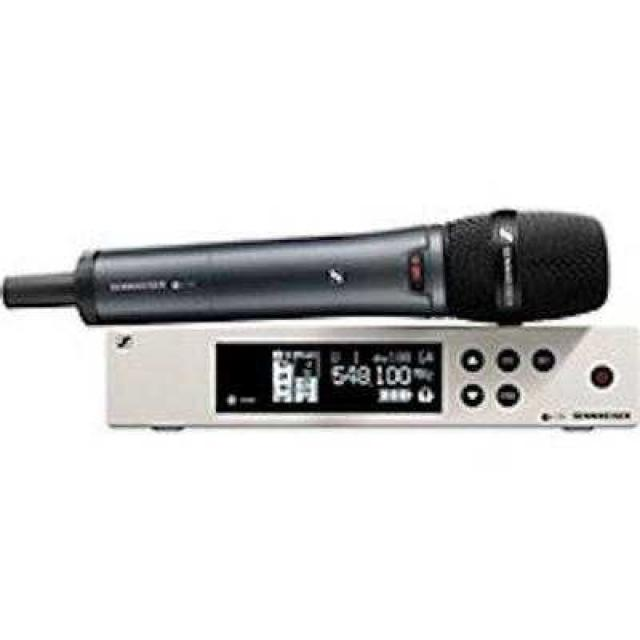microphone: (5, 209, 608, 323)
